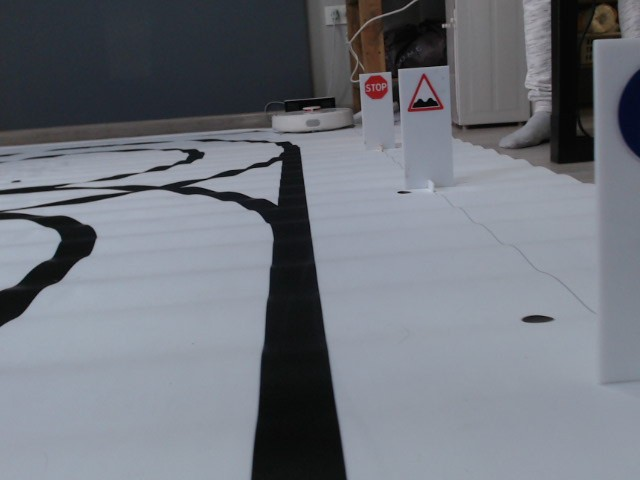Nerov: (407, 73, 444, 112)
